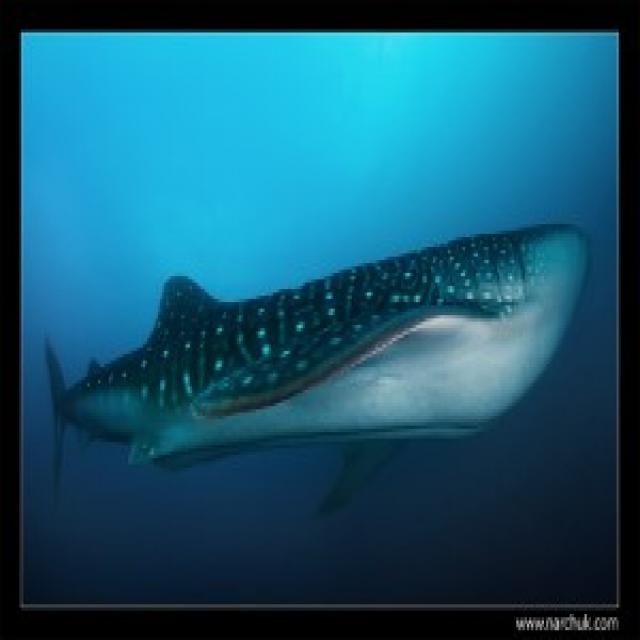Shark: (40, 220, 588, 506)
